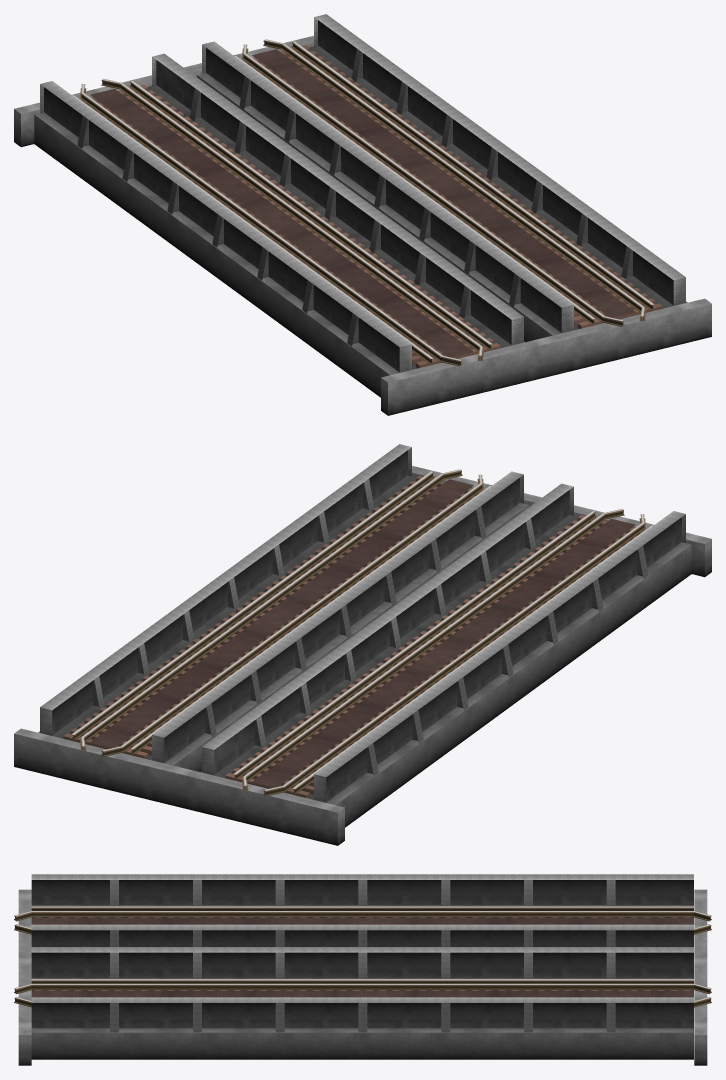
The model's file is HQ_2RAIL_BRIDGE50.glb.
The picture shows the model from 3 angles, top to bottom: view 1: azimuth 30°, elevation 25°; view 2: azimuth 150°, elevation 25°; view 3: azimuth 270°, elevation 25°; orthographic projection. The views are drawn at different scales.
Parts seen in each view (by area): view 1: obj16, BACK, FRONT, obj4, obj10, obj8, obj12, obj11, bone0, obj5, obj9; view 2: obj16, FRONT, BACK, bone0, obj8, obj10, obj12, obj9, obj5, obj4, obj11; view 3: obj16, BACK, FRONT.
Boxes of the visible parts, bbox=[...] form: obj16: bbox=[34, 14, 687, 397]; BACK: bbox=[381, 298, 711, 415]; FRONT: bbox=[14, 35, 313, 147]; obj4: bbox=[398, 277, 662, 368]; obj10: bbox=[348, 240, 619, 331]; obj8: bbox=[168, 108, 439, 200]; obj12: bbox=[125, 77, 388, 163]; obj11: bbox=[218, 145, 482, 231]; bone0: bbox=[82, 45, 345, 131]; obj5: bbox=[304, 208, 568, 294]; obj9: bbox=[261, 177, 525, 263]; obj16: bbox=[38, 444, 691, 827]; FRONT: bbox=[14, 728, 344, 845]; BACK: bbox=[412, 465, 711, 577]; bone0: bbox=[63, 707, 327, 798]; obj8: bbox=[149, 638, 421, 730]; obj10: bbox=[329, 507, 600, 598]; obj12: bbox=[106, 675, 370, 761]; obj9: bbox=[243, 575, 507, 661]; obj5: bbox=[286, 544, 550, 630]; obj4: bbox=[380, 475, 643, 561]; obj11: bbox=[200, 607, 464, 693]; obj16: bbox=[31, 874, 693, 1059]; BACK: bbox=[14, 889, 31, 1065]; FRONT: bbox=[694, 889, 711, 1065].
Bounding box in the file's own units: 26 × 4.51 × 52.7.
18 materials, 15 textured.
